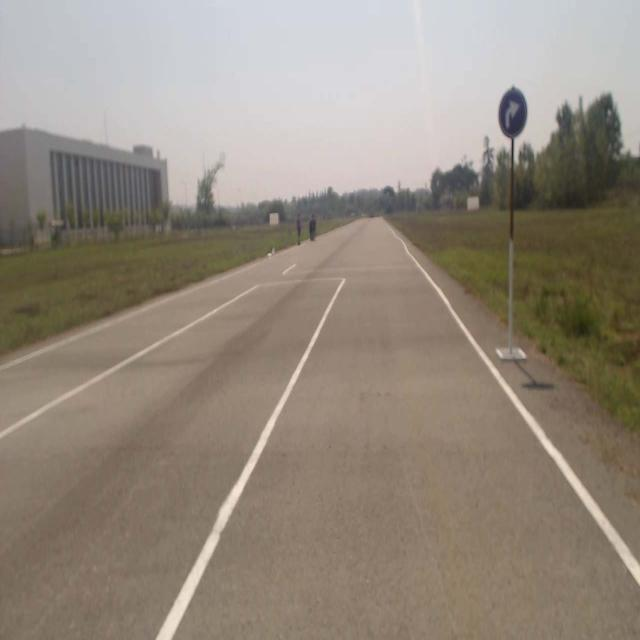sag: (500, 91, 526, 136)
